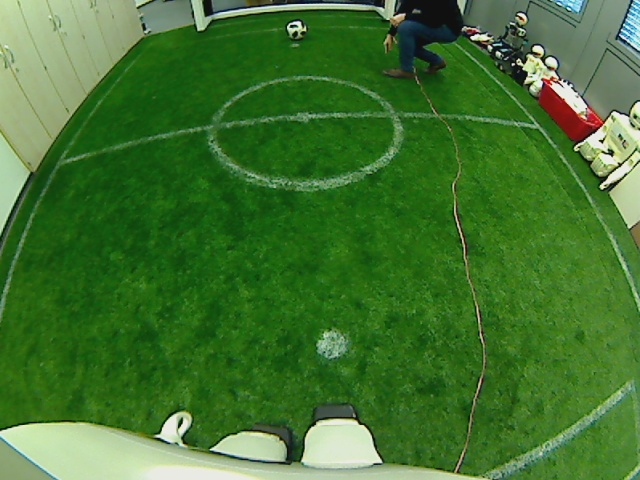ball: (285, 19, 307, 41)
